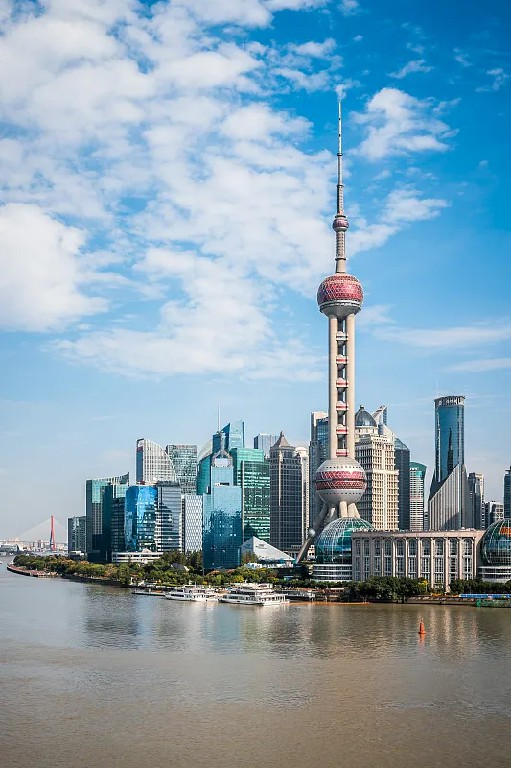Oriental: (296, 101, 367, 562)
